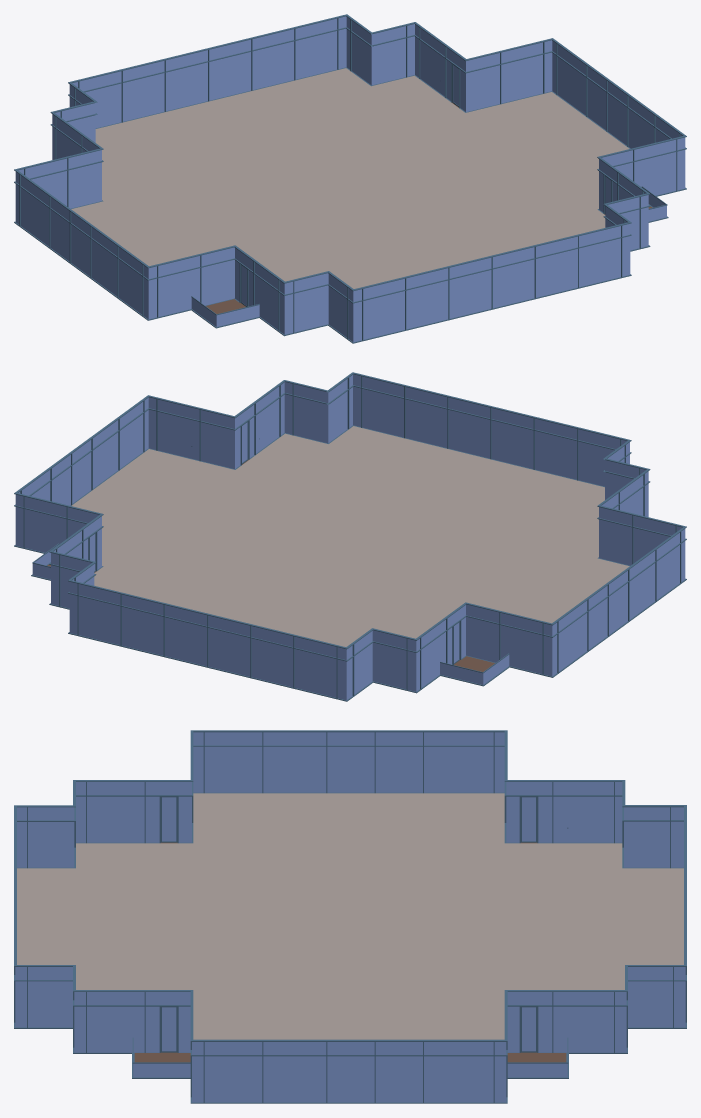
File: 25. Floor plans 25TH Floor.glb
The picture shows the model from 3 angles, top to bottom: view 1: azimuth 30°, elevation 25°; view 2: azimuth 150°, elevation 25°; view 3: azimuth 270°, elevation 25°; orthographic projection. The views are drawn at different scales.
Visible parts, largest first — view 1: Floor plans 25TH (1), Floor plans 25TH Window Glass, Floor plans 25TH Window Joinery; view 2: Floor plans 25TH (1), Floor plans 25TH Window Glass, Floor plans 25TH Window Joinery; view 3: Floor plans 25TH (1), Floor plans 25TH Window Glass, Floor plans 25TH Window Joinery.
Boxes of the visible parts, x1,y1,x2,y2 form: Floor plans 25TH (1): (71, 68, 668, 328); Floor plans 25TH Window Glass: (15, 16, 685, 342); Floor plans 25TH Window Joinery: (14, 14, 686, 343); Floor plans 25TH (1): (31, 426, 629, 686); Floor plans 25TH Window Glass: (15, 374, 685, 700); Floor plans 25TH Window Joinery: (14, 372, 686, 701); Floor plans 25TH (1): (17, 793, 683, 1078); Floor plans 25TH Window Glass: (15, 732, 685, 1102); Floor plans 25TH Window Joinery: (14, 730, 686, 1103).
Bounding box in the file's own units: 38.04 × 3.59 × 34.82.
